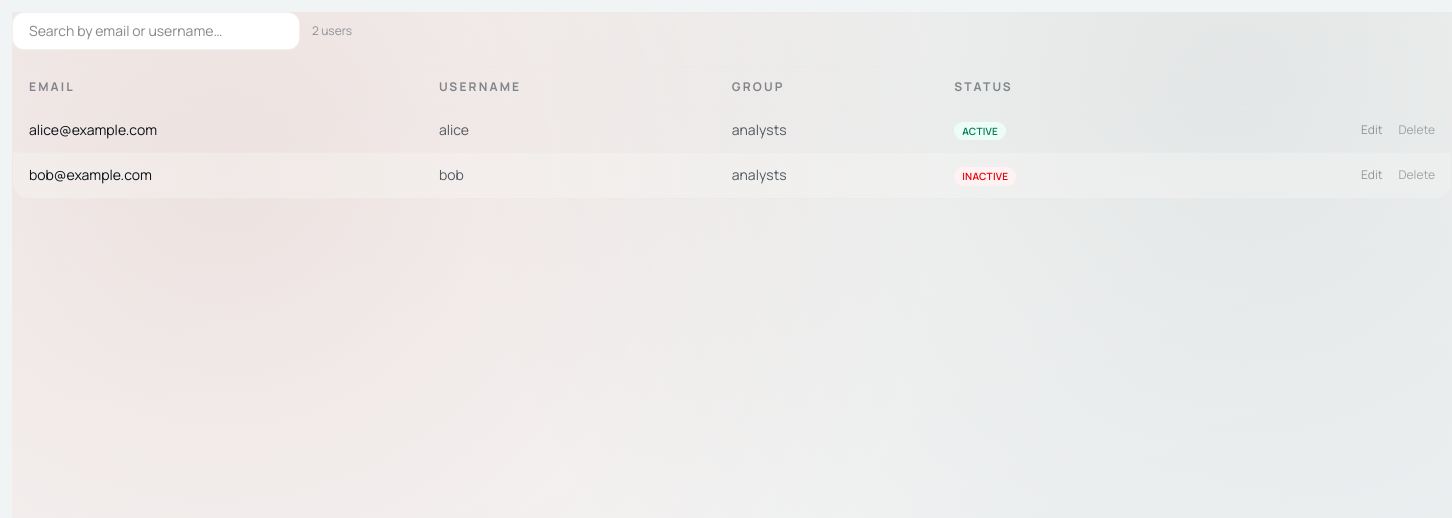
Scenario: UsersPanel – search › filters users by email substring
Expected: the text "alice@example.com" is shown, [13,108,423,153]
Type "alice" into the field with placeholder "Search by email or username…". click: (156, 31)
box: [12,12,300,50]
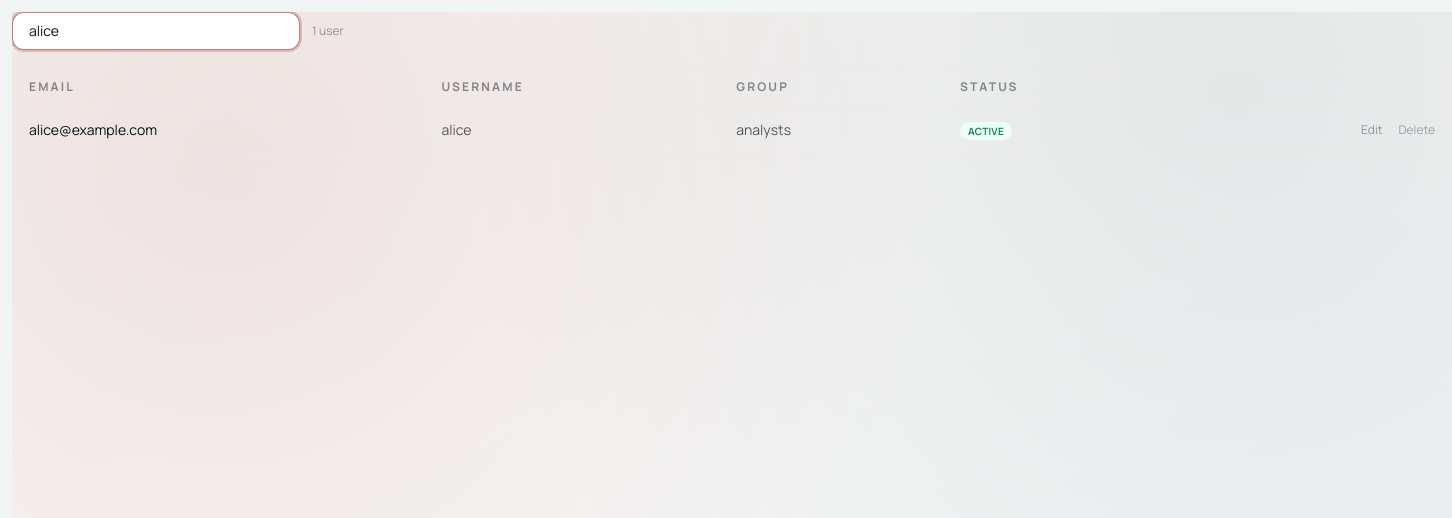
Expected: the text "alice@example.com" is shown, [13,108,426,152]
Expected: the text "bob@example.com" is gone
